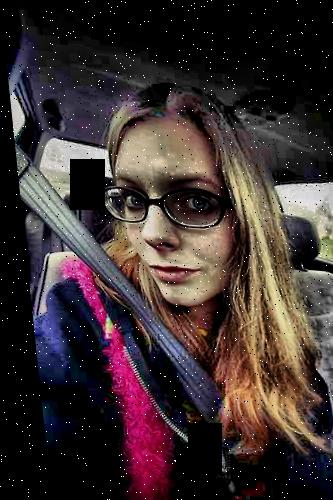seatbelt: (25, 155, 232, 426)
